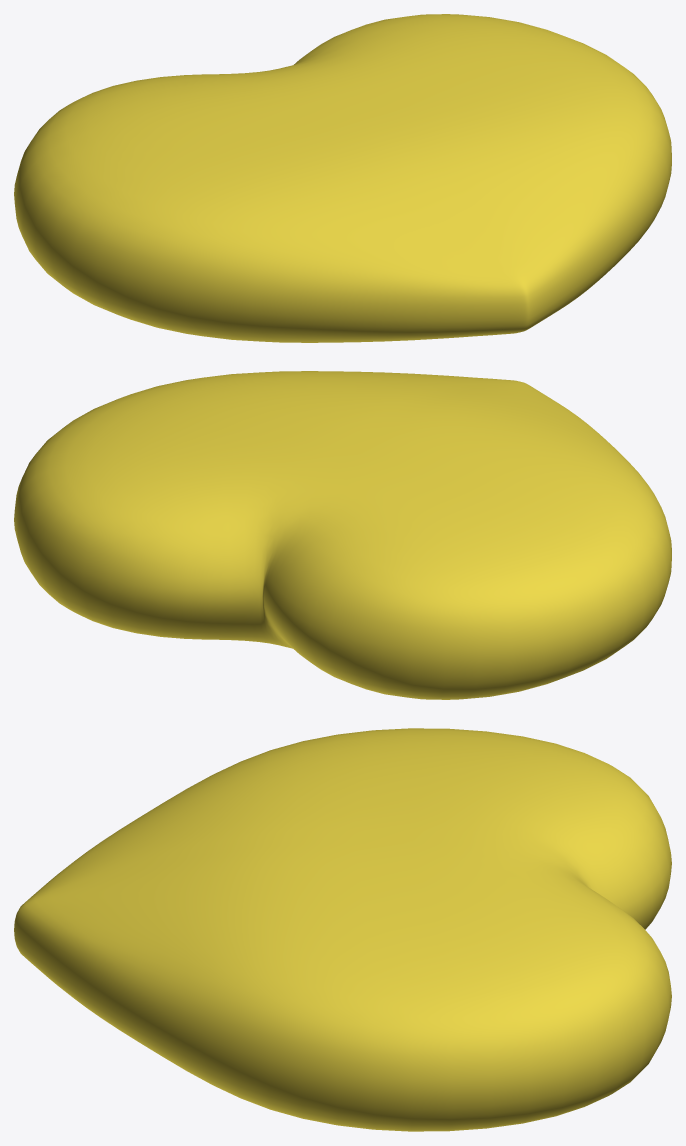
The model's file is extraHeart.fbx.
The picture shows the model from 3 angles, top to bottom: view 1: azimuth 30°, elevation 25°; view 2: azimuth 150°, elevation 25°; view 3: azimuth 270°, elevation 25°; orthographic projection. The views are drawn at different scales.
Visible parts, largest first — view 1: heart; view 2: heart; view 3: heart.
Boxes of the visible parts, bbox=[...] form: heart: bbox=[14, 14, 671, 342]; heart: bbox=[14, 371, 671, 699]; heart: bbox=[14, 728, 671, 1131].
Bounding box in the file's own units: 130 × 35.24 × 113.
